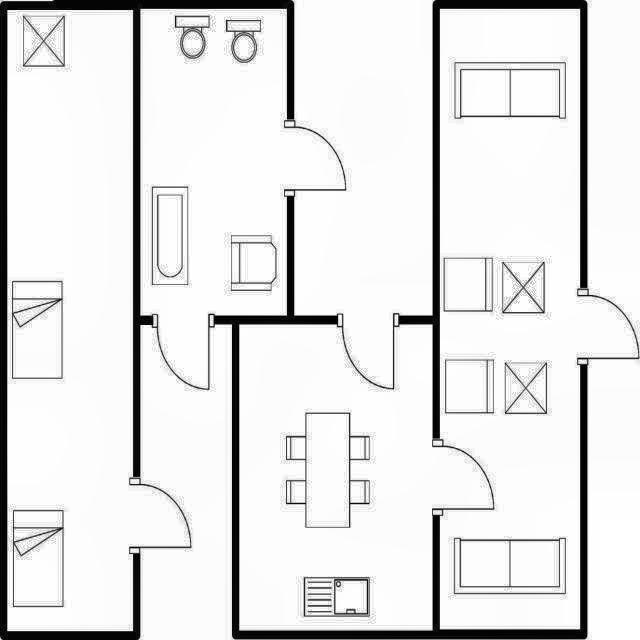room: (440, 8, 580, 629), (7, 10, 133, 631), (239, 324, 433, 631), (140, 9, 287, 315)
